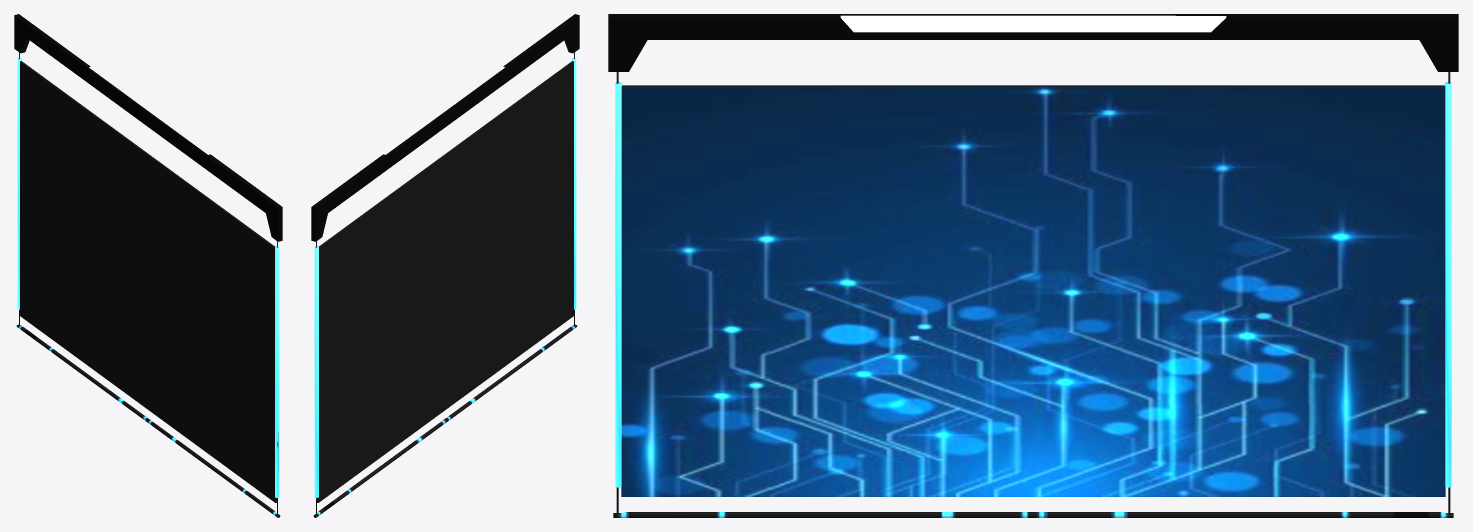
File: Monitor refeito.fbx
3 renders of one model, left to right at view 1: azimuth 30°, elevation 25°; view 2: azimuth 150°, elevation 25°; view 3: azimuth 270°, elevation 25°, orthographic. The views are drawn at different scales.
Parts seen in each view (by area): view 1: Cylinder; view 2: Cylinder; view 3: Cylinder.
Part boxes in pixels (left/top/right/bottom): Cylinder: left=14, top=14, right=282, bottom=517; Cylinder: left=311, top=14, right=579, bottom=517; Cylinder: left=608, top=14, right=1458, bottom=517.
Size of the model in its own units: 23.32 by 1468 by 2254.
1 material, 1 textured.
